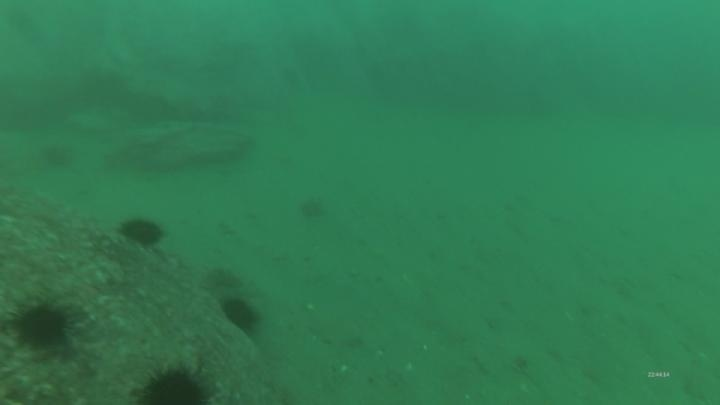echinus: (8, 297, 75, 353), (133, 360, 218, 404), (219, 294, 263, 336), (117, 214, 167, 250), (201, 264, 246, 294), (38, 140, 76, 172), (296, 194, 329, 222)
